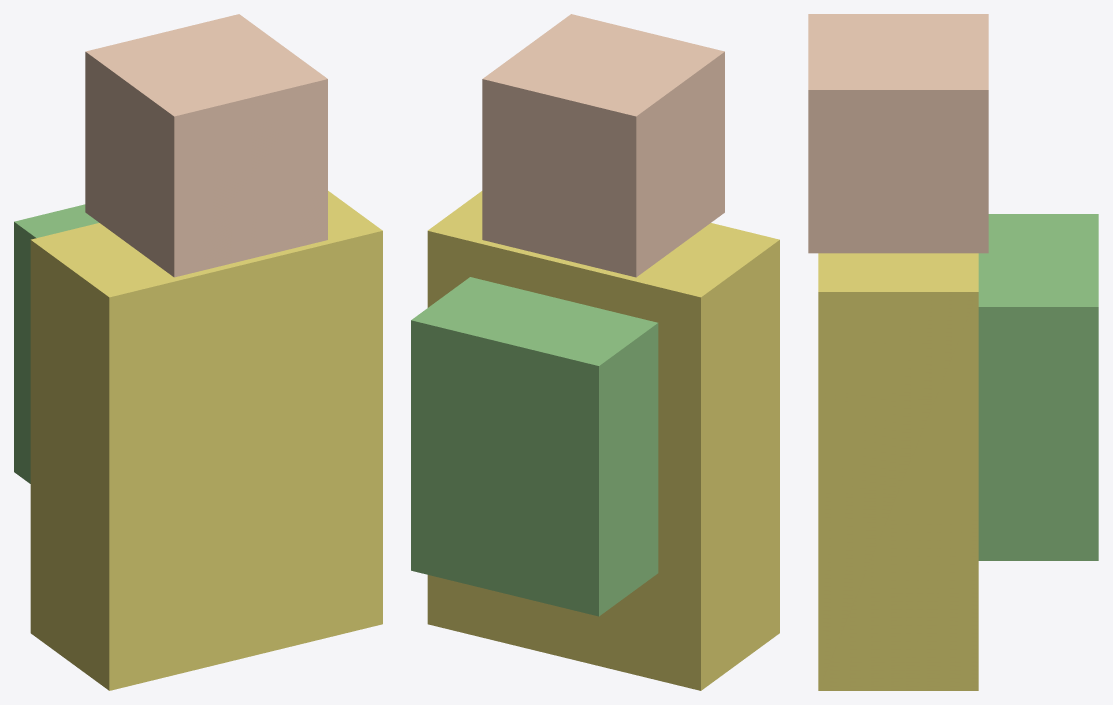
File: figure.gltf
3 views of the same model, side by side, from view 1: azimuth 30°, elevation 25°; view 2: azimuth 150°, elevation 25°; view 3: azimuth 270°, elevation 25° (orthographic).
Visible parts, largest first — view 1: Figure; view 2: Figure; view 3: Figure.
Part boxes in pixels (left/top/right/bottom): Figure: left=14, top=14, right=382, bottom=690; Figure: left=411, top=14, right=779, bottom=690; Figure: left=808, top=14, right=1098, bottom=690.
Size of the model in its own units: 0.8 by 1.57 by 0.725.
